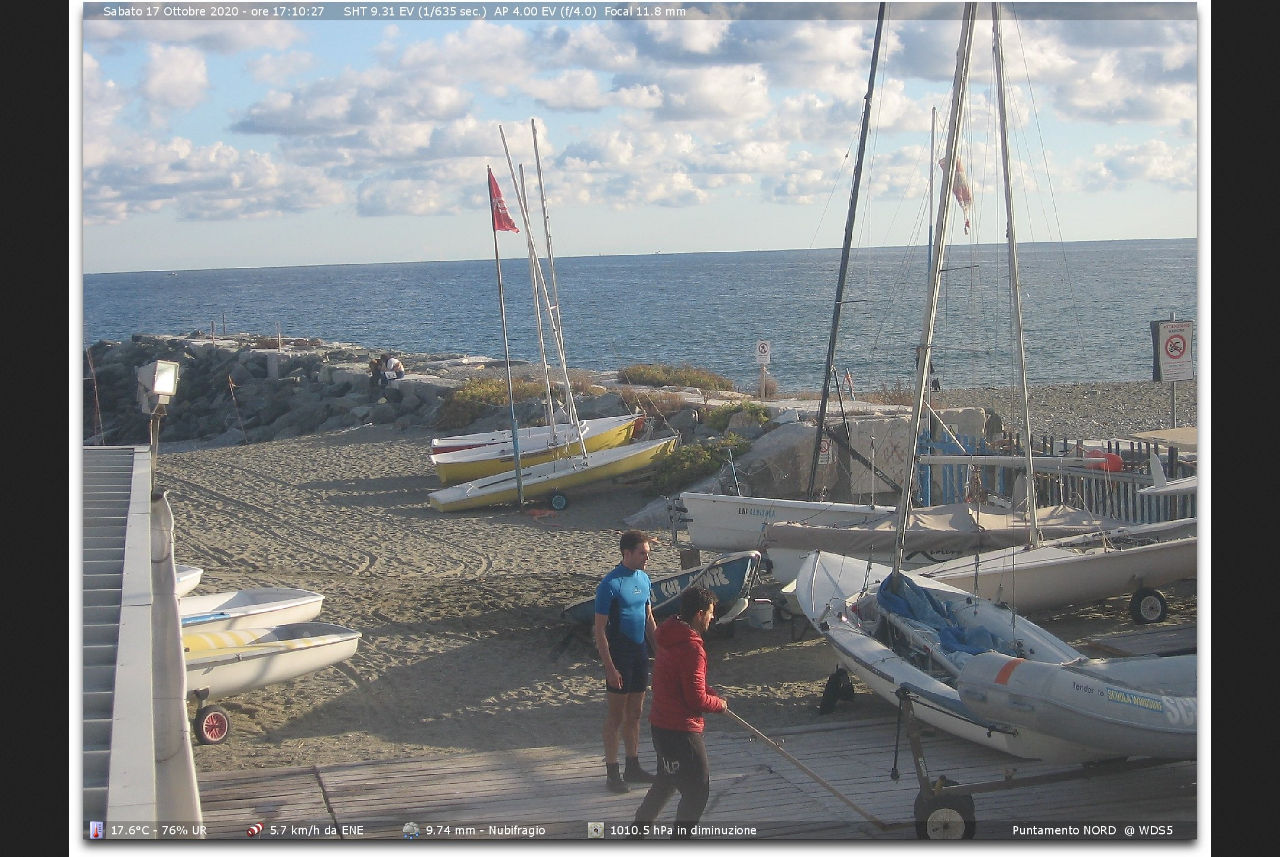no: (486, 163, 520, 232)
